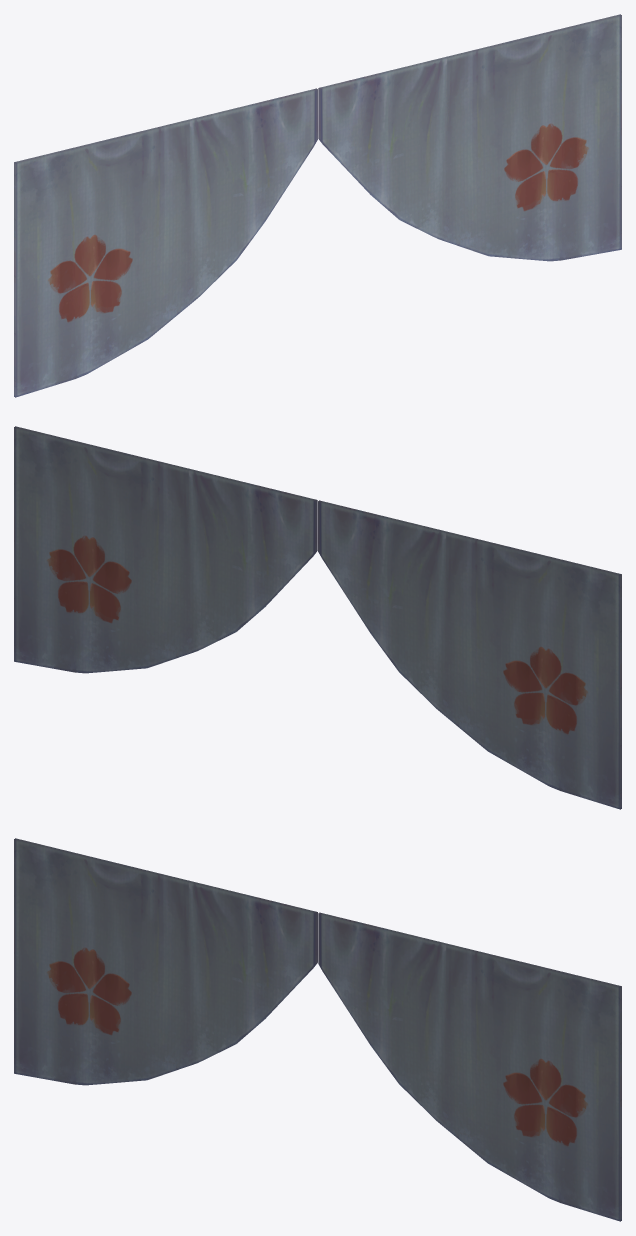
Rendered from Homeworld_Exterior_Dq_Build_Shenshe_02_A_Vo.fbx.
The picture shows the model from 3 angles, top to bottom: view 1: azimuth 30°, elevation 25°; view 2: azimuth 150°, elevation 25°; view 3: azimuth 330°, elevation 25°; orthographic projection.
Parts seen in each view (by area): view 1: Homeworld_Exterior_Dq_Build_Shenshe_02_A_Vo; view 2: Homeworld_Exterior_Dq_Build_Shenshe_02_A_Vo; view 3: Homeworld_Exterior_Dq_Build_Shenshe_02_A_Vo.
Boxes of the visible parts, x1=… form: Homeworld_Exterior_Dq_Build_Shenshe_02_A_Vo: x1=14, y1=14, x2=621, y2=397; Homeworld_Exterior_Dq_Build_Shenshe_02_A_Vo: x1=14, y1=426, x2=621, y2=809; Homeworld_Exterior_Dq_Build_Shenshe_02_A_Vo: x1=14, y1=838, x2=621, y2=1221.
Size of the model in its own units: 3.87 by 1.43 by 0.0105.
